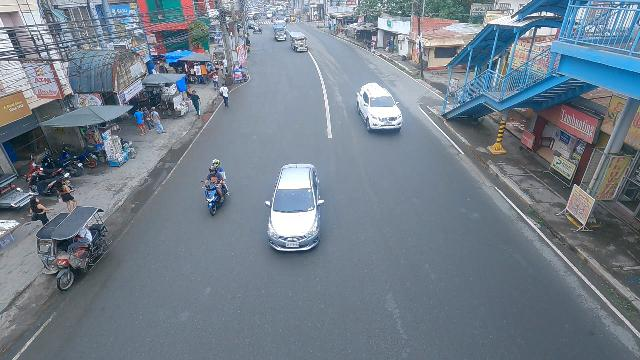car: (264, 165, 321, 254)
jeepney: (290, 32, 309, 54), (272, 24, 287, 41)
motorcycle: (201, 172, 228, 215), (258, 23, 262, 33)
truck: (354, 82, 404, 133)
